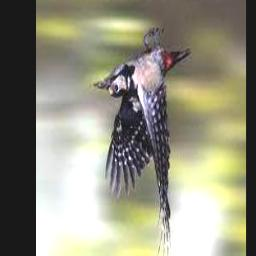Woodpecker: (94, 29, 191, 256)
